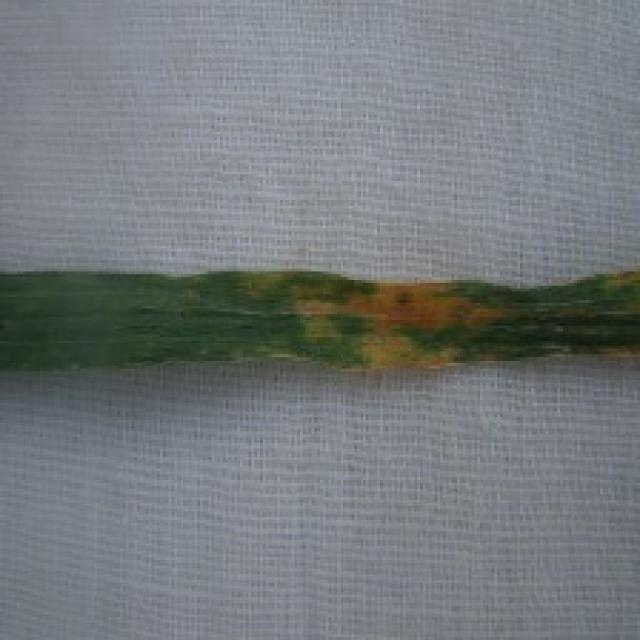Bacterial_Blight: (280, 263, 499, 379)
